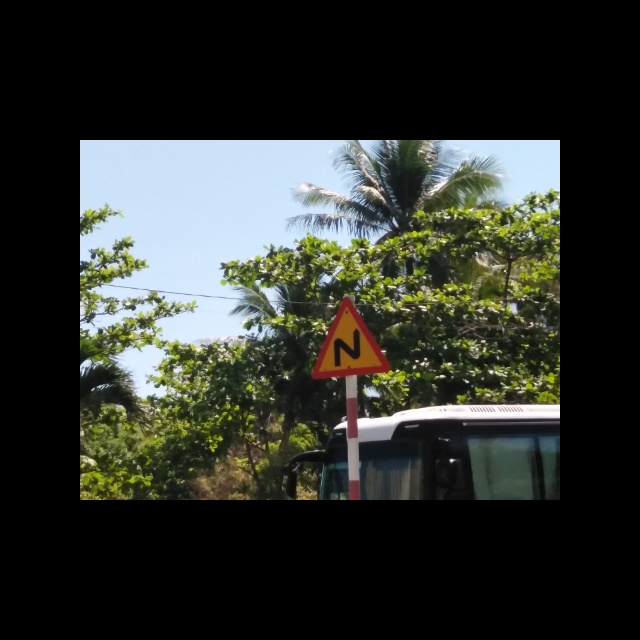Ngoặt nguy hiểm liên tiếp bên phải: (313, 300, 389, 381)
